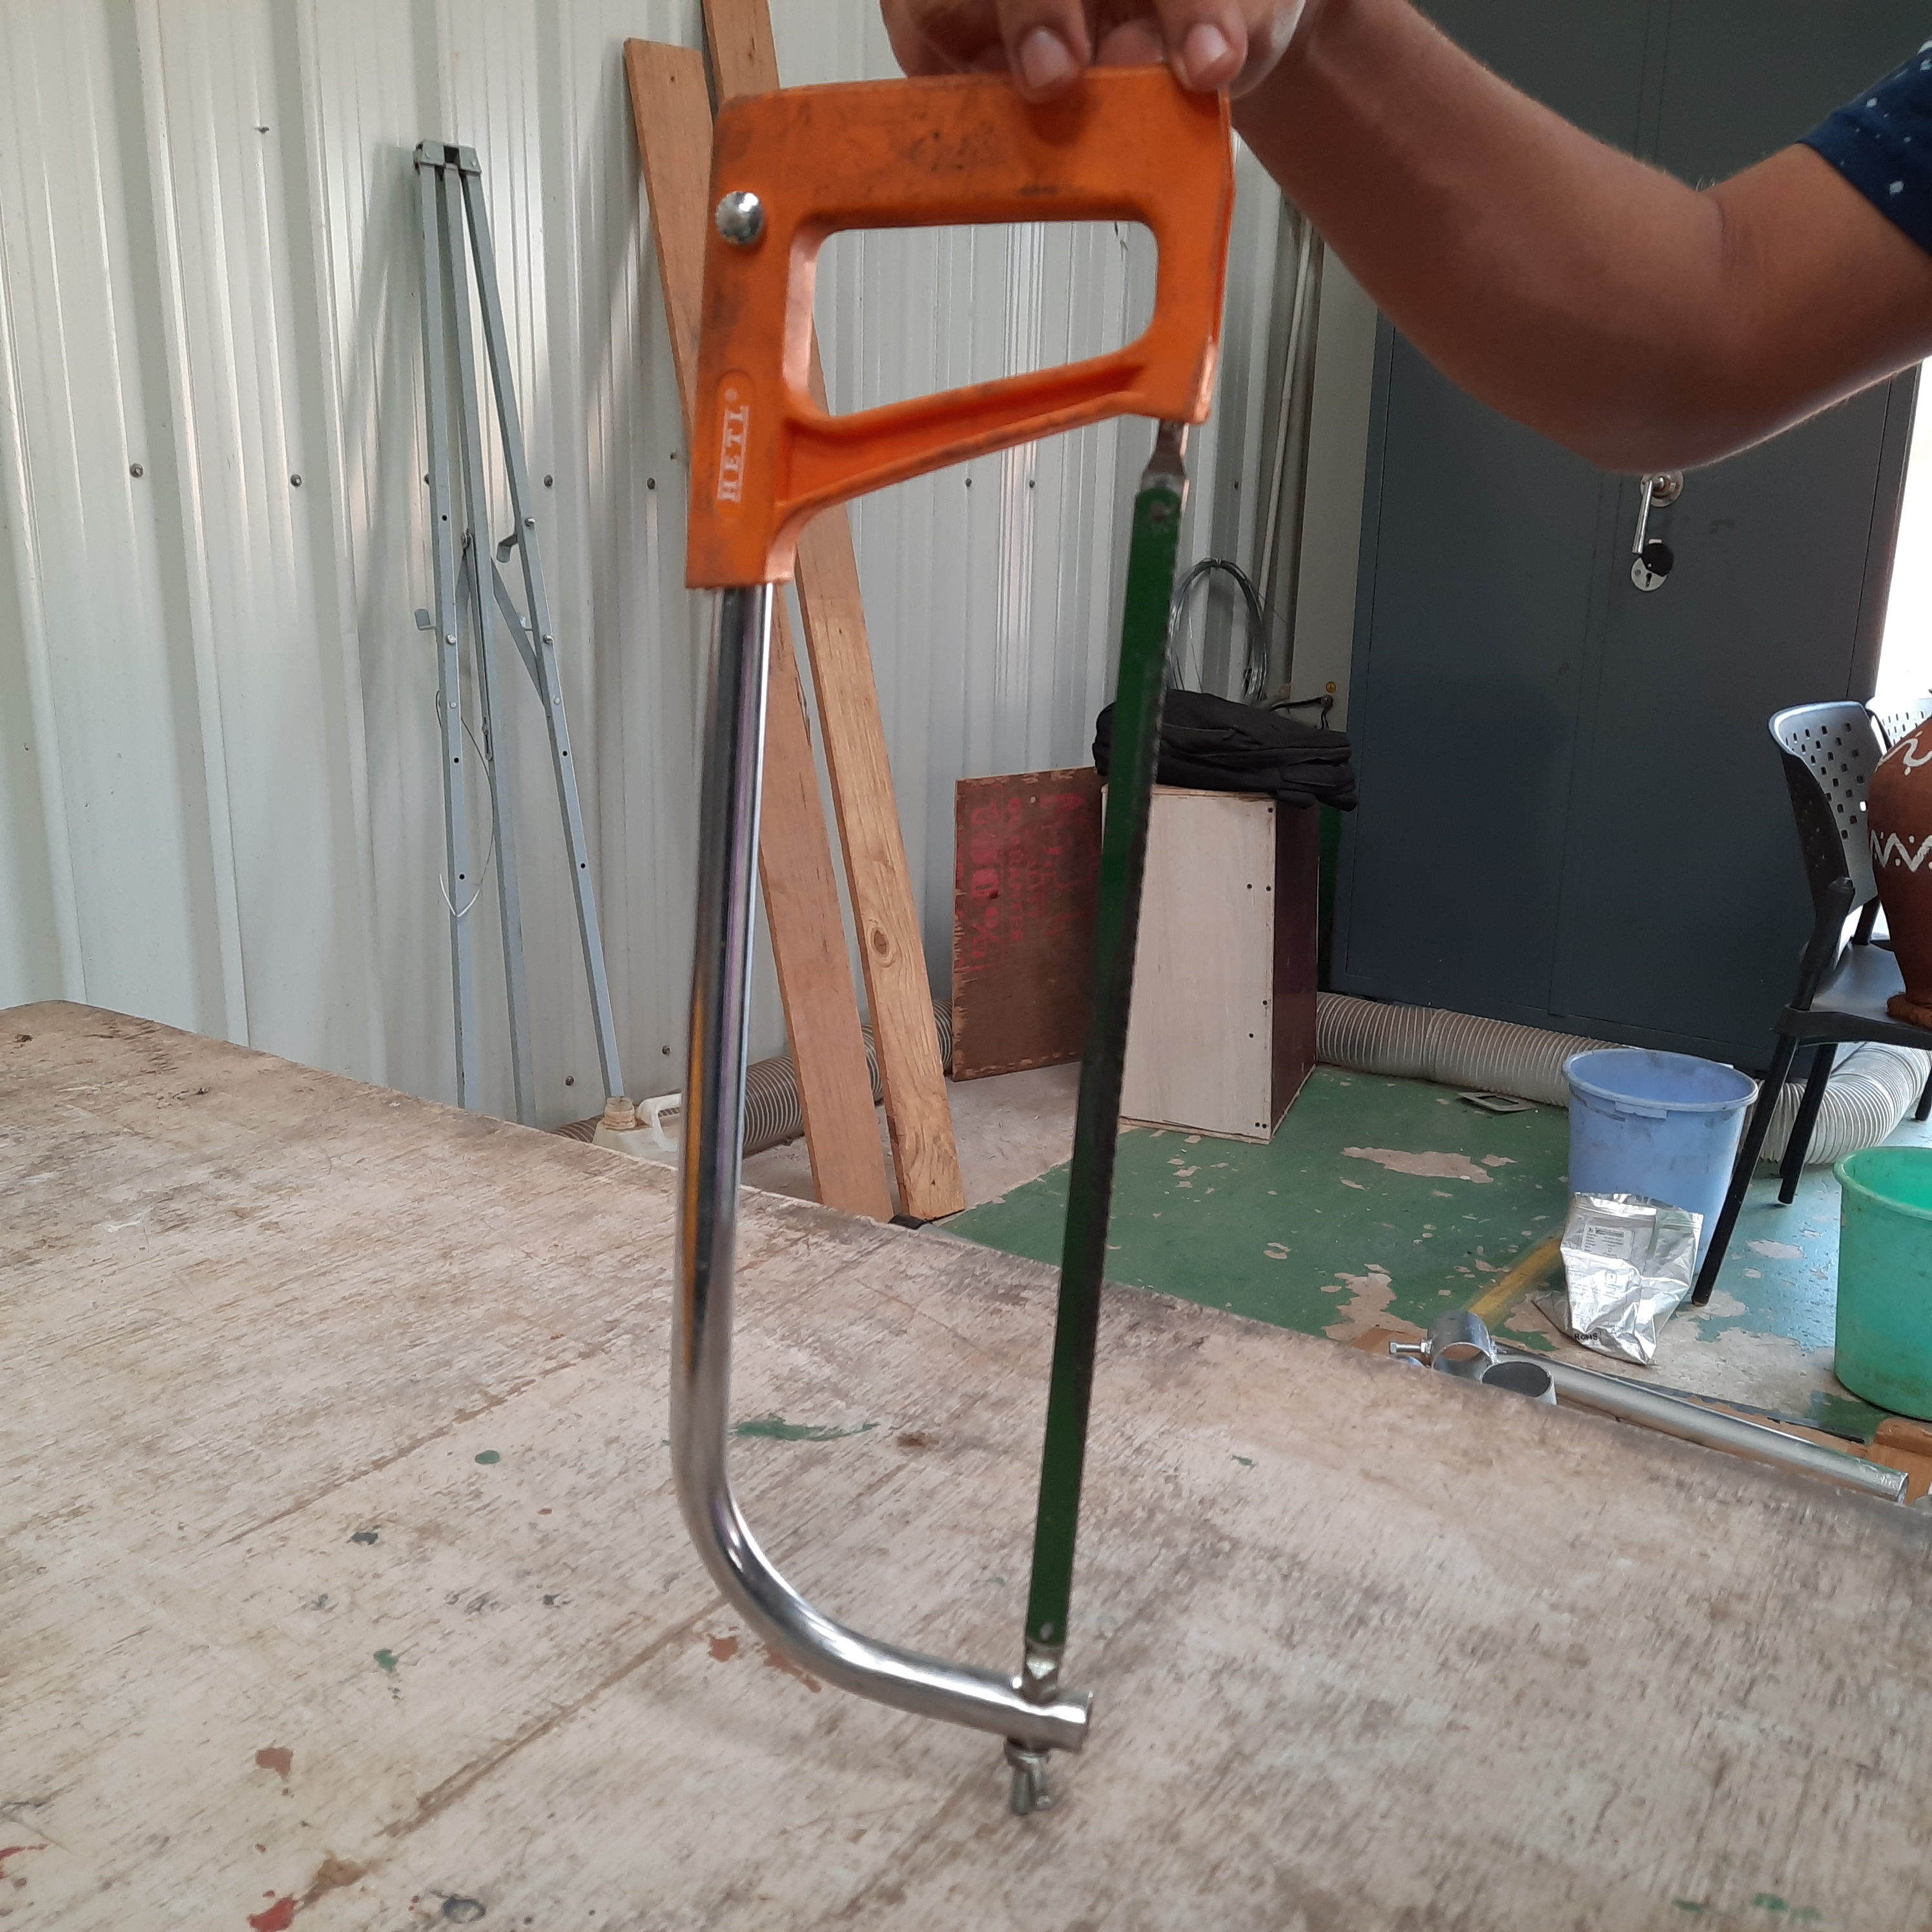Hexaframe: (667, 73, 1212, 1806)
